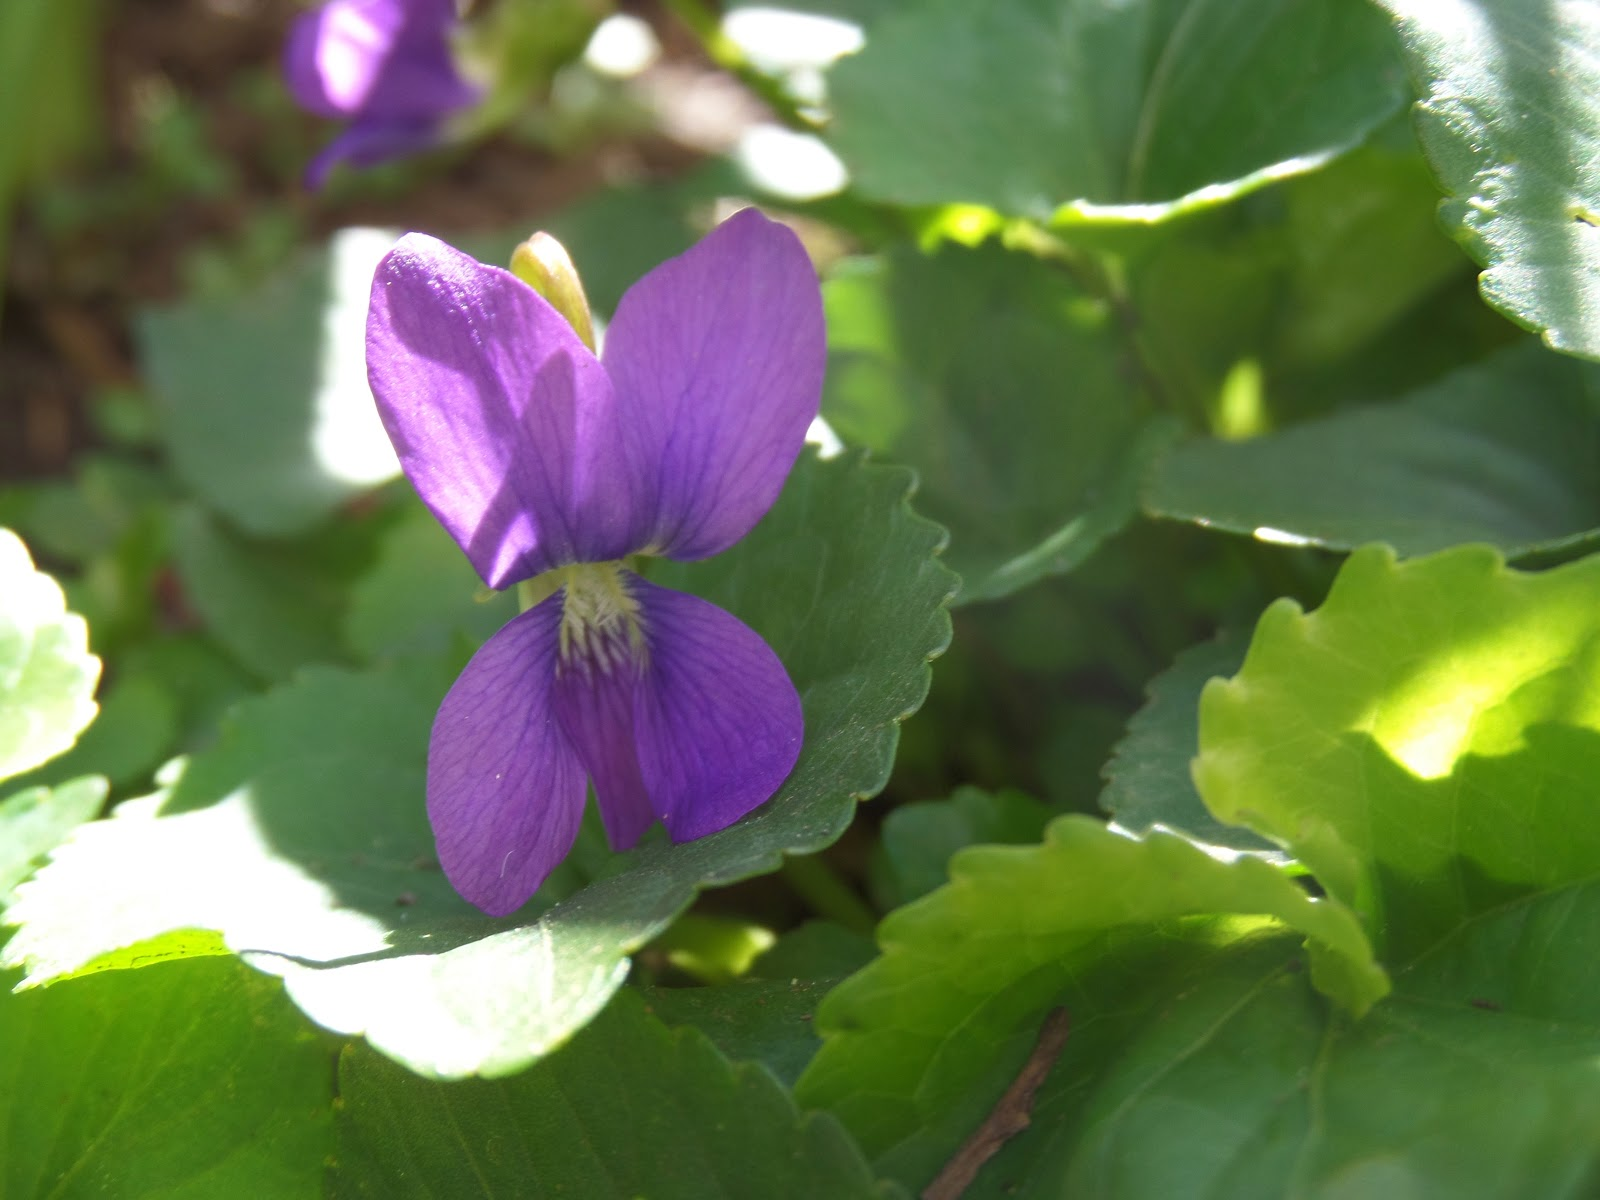violet: (296, 216, 853, 850)
